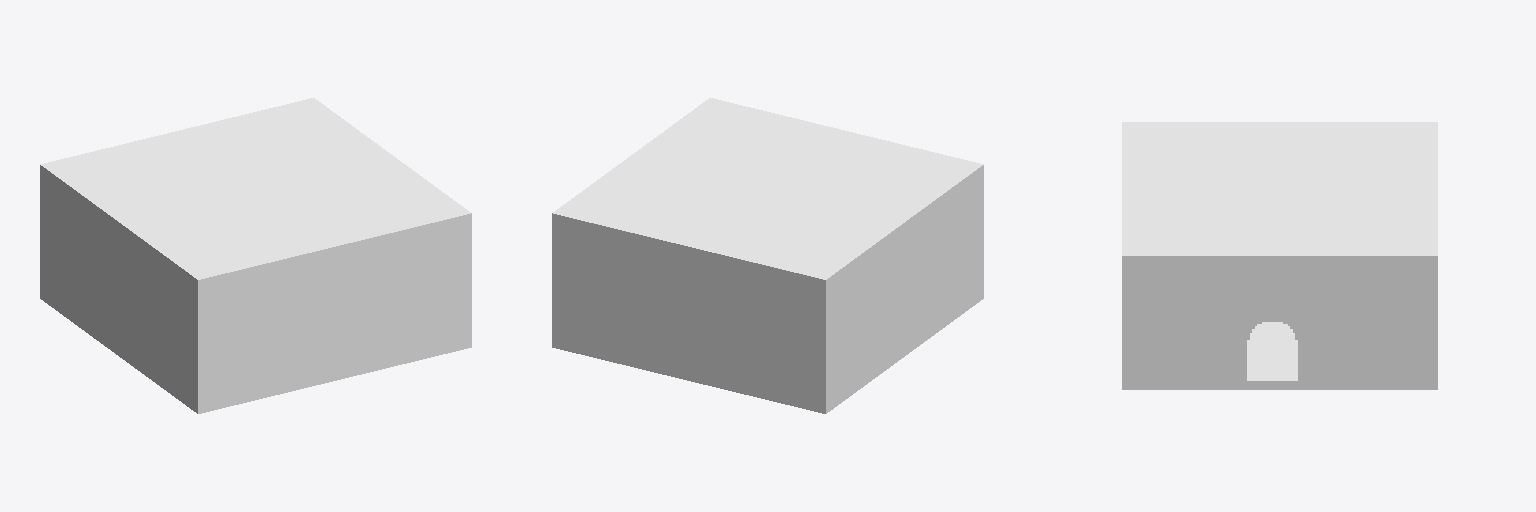
The model's file is StorageRoom.obj.
3 views of the same model, side by side, from view 1: azimuth 30°, elevation 25°; view 2: azimuth 150°, elevation 25°; view 3: azimuth 270°, elevation 25° (orthographic).
Bounding box in the file's own units: 126 × 59 × 126.